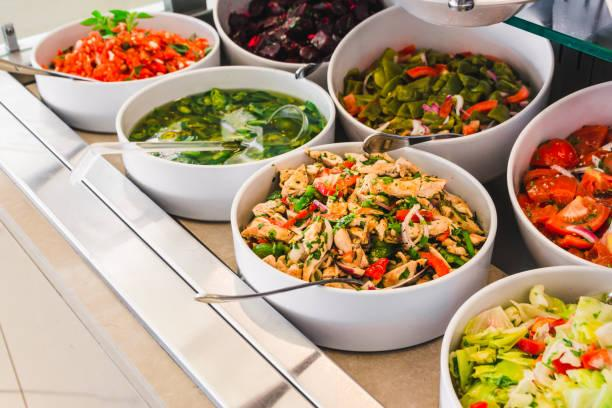Braised Crucian Carp: (234, 134, 499, 324), (328, 6, 555, 185), (118, 66, 335, 221), (20, 14, 220, 138), (436, 265, 609, 406), (212, 0, 378, 79)
